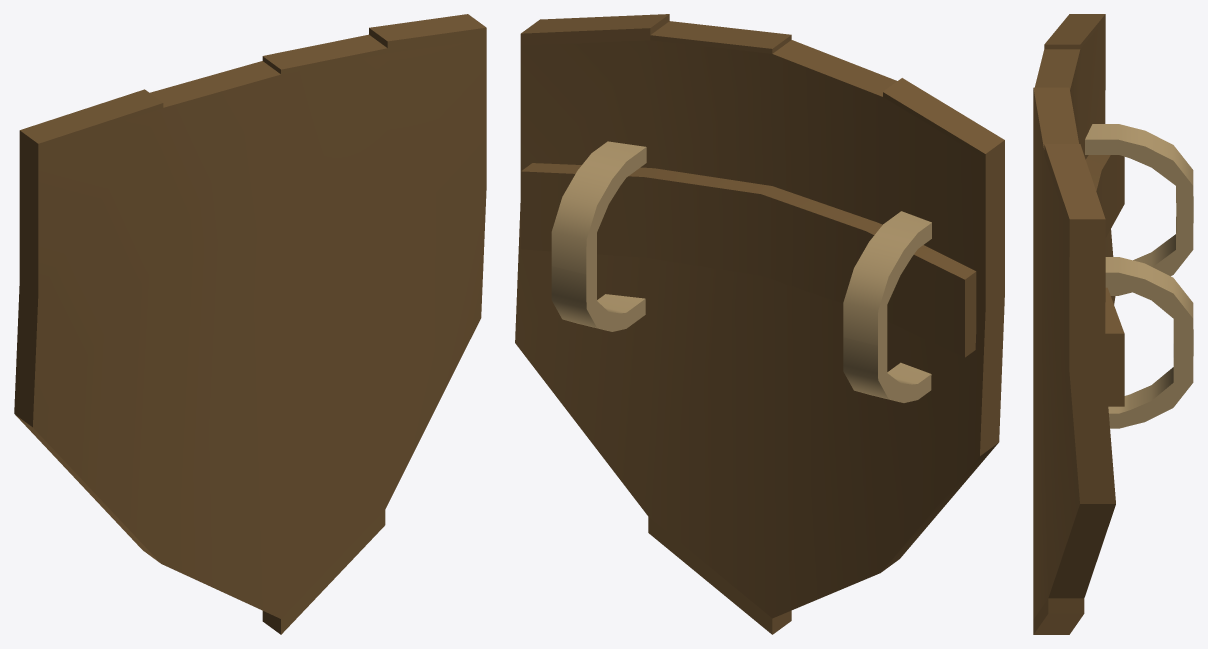
The model's file is ShieldWooden.fbx.
The picture shows the model from 3 angles, left to right: view 1: azimuth 30°, elevation 25°; view 2: azimuth 150°, elevation 25°; view 3: azimuth 270°, elevation 25°; orthographic projection. The views are drawn at different scales.
Visible parts, largest first — view 1: ShieldWooden; view 2: ShieldWooden; view 3: ShieldWooden.
Boxes of the visible parts, box(x1,y1,x2,y2) form: ShieldWooden: box(14, 14, 486, 634); ShieldWooden: box(515, 14, 1004, 634); ShieldWooden: box(1033, 14, 1193, 634).
Bounding box in the file's own units: 1 × 1.2 × 0.3195.
